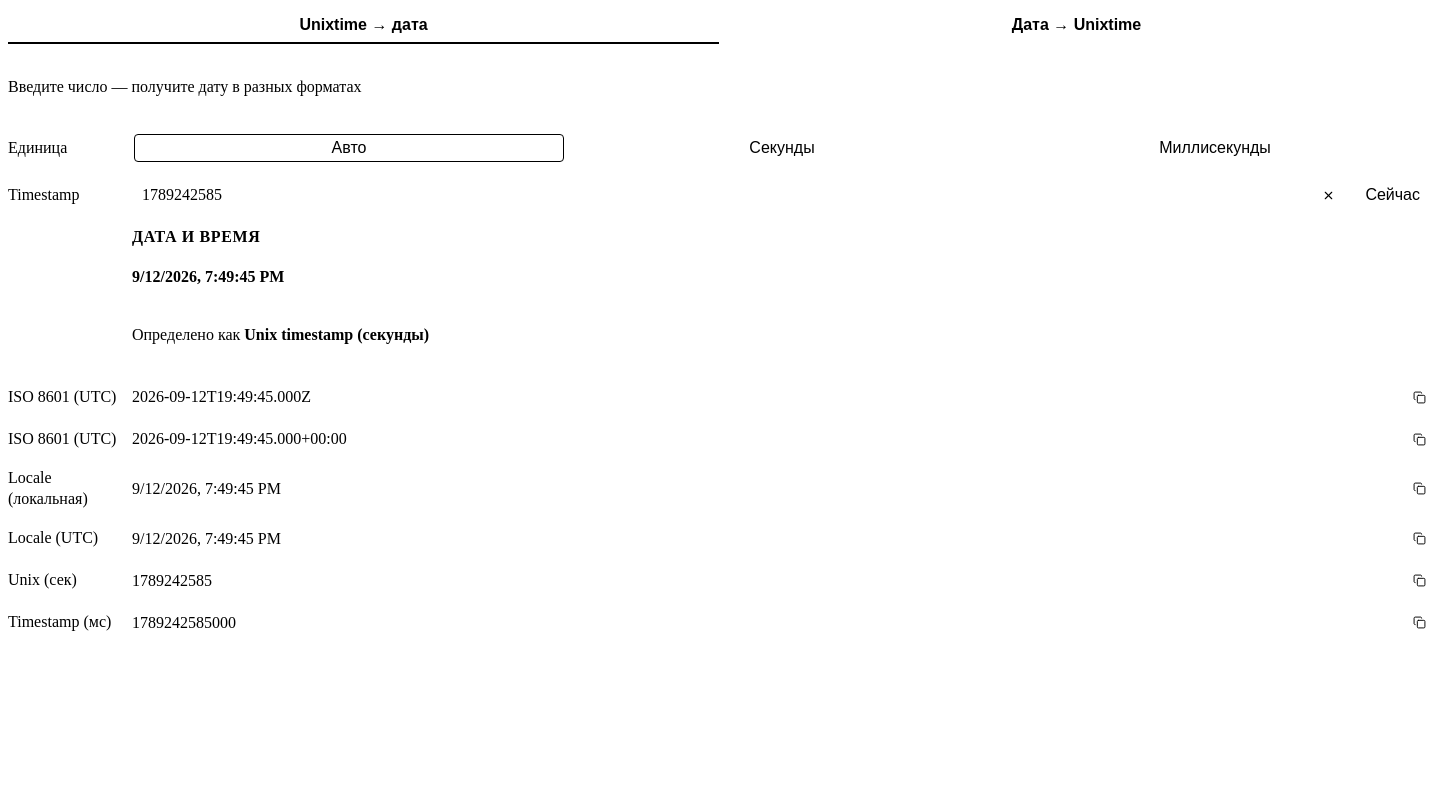
Test case: UnixtimeConverter › секунды разворачиваются в ISO 8601 и обе нормализованные метки
The image size is (1440, 810).
Replace the text in the field named "Unix-время" with "1700000000" at (761, 195), box [132, 178, 1389, 212]
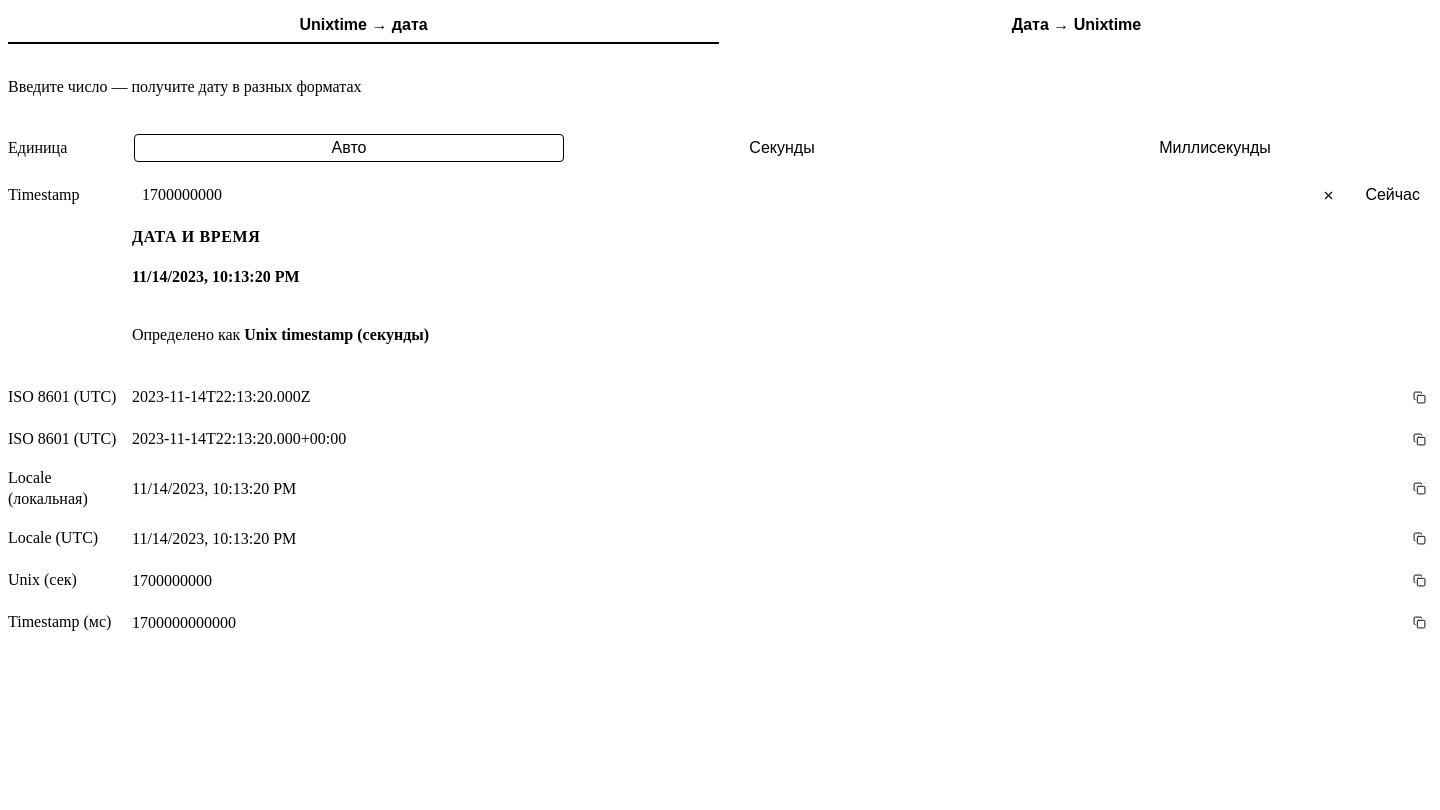
Check: the text "2023-11-14T22:13:20.000Z" is shown, box [132, 388, 310, 405]
